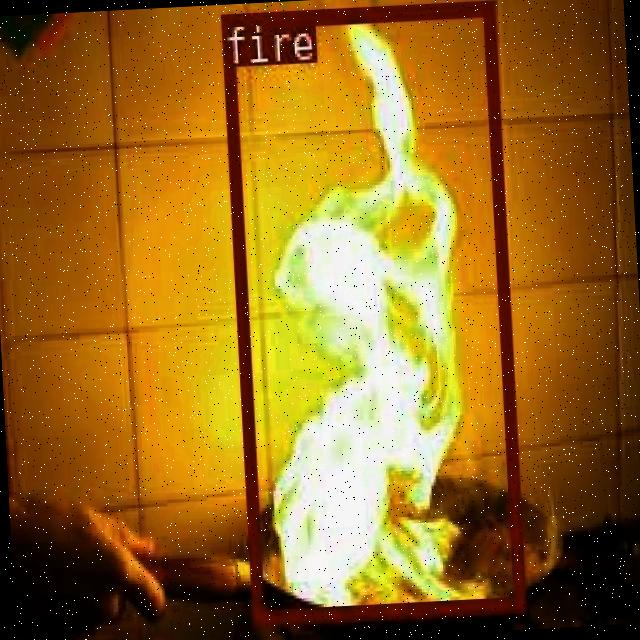fire: (220, 0, 522, 623)
